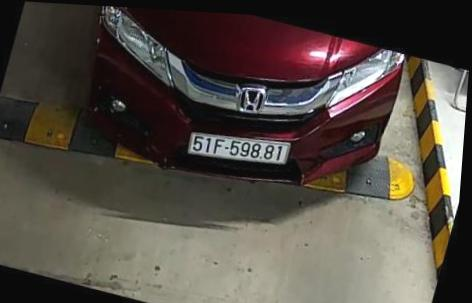License_Plate: (185, 129, 292, 173)
